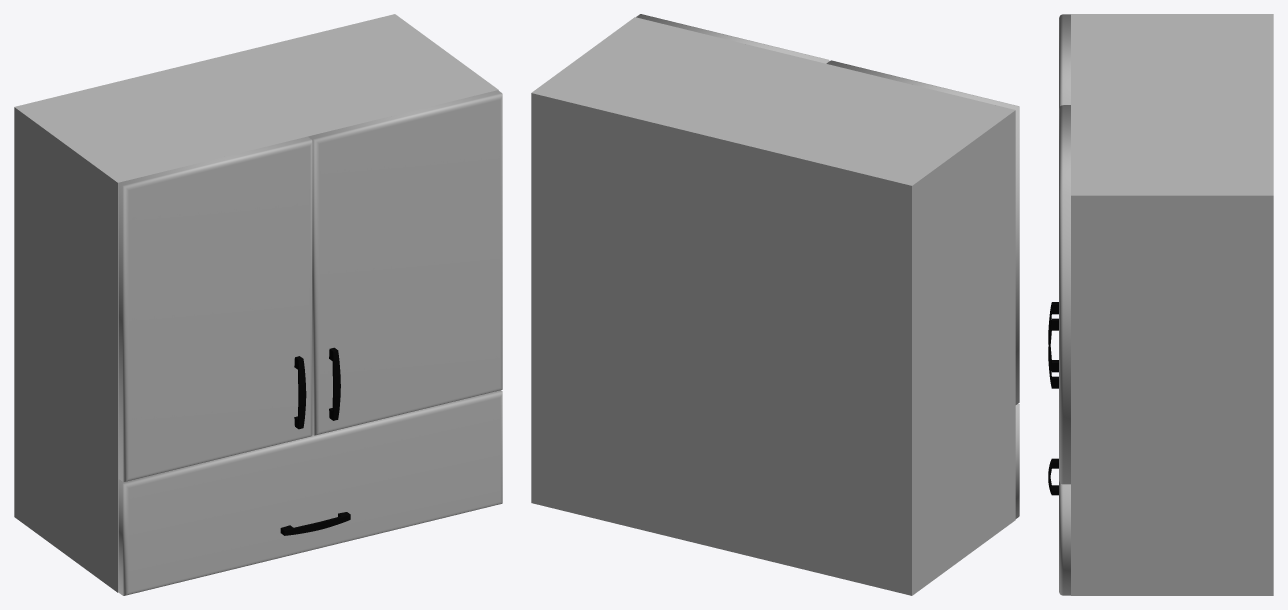
File: mdk70.glb
3 views of the same model, side by side, from view 1: azimuth 30°, elevation 25°; view 2: azimuth 150°, elevation 25°; view 3: azimuth 270°, elevation 25° (orthographic). The views are drawn at different scales.
Parts seen in each view (by area): view 1: Box001, Box011, Box012, Box013, Obj3d66-503491-2-345, Obj3d66-503491-2-344, Obj3d66-503491-2-346; view 2: Box001, Box011, Box012; view 3: Box001, Box012, Box013, Box011, Obj3d66-503491-2-345.
Boxes of the visible parts, bbox=[...] form: Box001: bbox=[14, 14, 498, 592]; Box011: bbox=[118, 136, 312, 481]; Box012: bbox=[309, 90, 502, 435]; Box013: bbox=[118, 390, 502, 595]; Obj3d66-503491-2-345: bbox=[329, 347, 340, 420]; Obj3d66-503491-2-344: bbox=[294, 356, 306, 429]; Obj3d66-503491-2-346: bbox=[280, 512, 350, 535]; Box001: bbox=[531, 17, 1015, 595]; Box011: bbox=[826, 60, 1019, 404]; Box012: bbox=[636, 14, 829, 63]; Box001: bbox=[1071, 14, 1273, 595]; Box012: bbox=[1059, 105, 1070, 484]; Box013: bbox=[1059, 481, 1070, 595]; Box011: bbox=[1059, 14, 1070, 108]; Obj3d66-503491-2-345: bbox=[1048, 318, 1058, 388].
Size of the model in its own units: 0.7 by 0.72 by 0.3671.
Materials: 2 (1 with a texture image).
